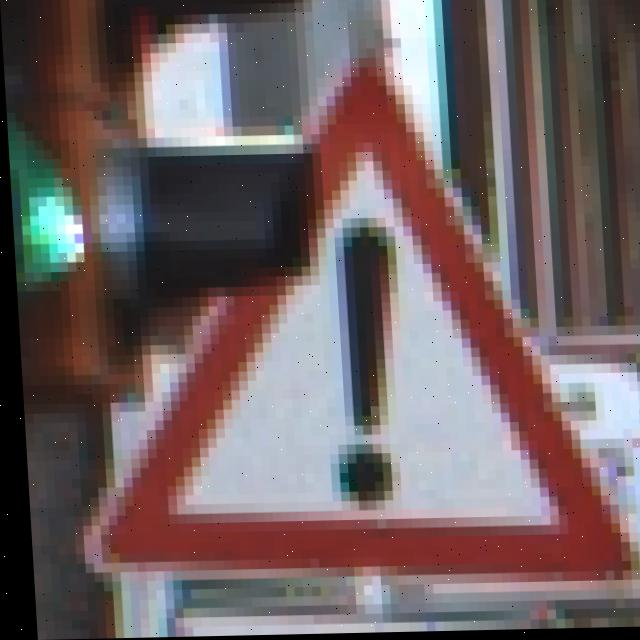warning: (95, 68, 636, 587)
